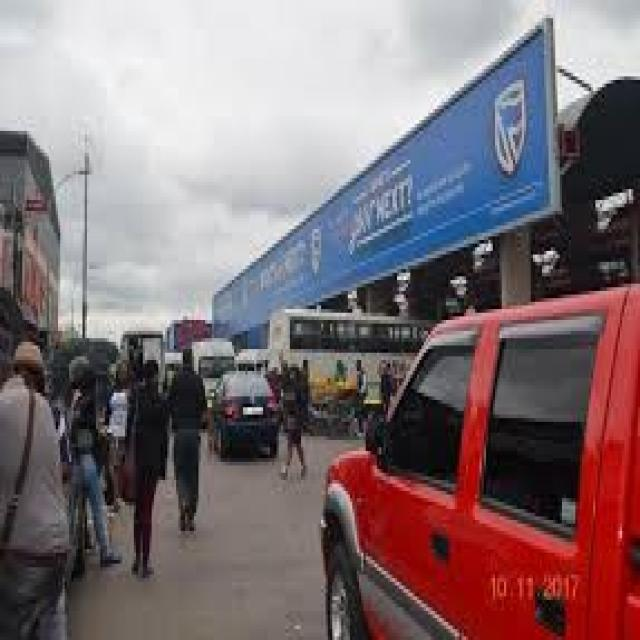Buses: (263, 306, 446, 418)
Passenger Car: (316, 283, 640, 636), (210, 364, 281, 462)
Pedestrians: (123, 349, 165, 575), (172, 331, 203, 534)
